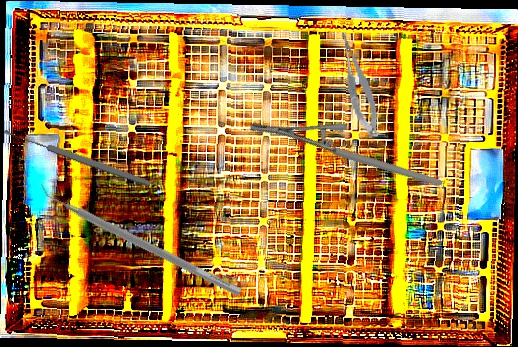Micro Scissor: (336, 28, 383, 141)
Needle Holder: (246, 69, 444, 241)
Spatula Surgical: (33, 179, 247, 297)
Surgical Spoon: (3, 126, 152, 189)
